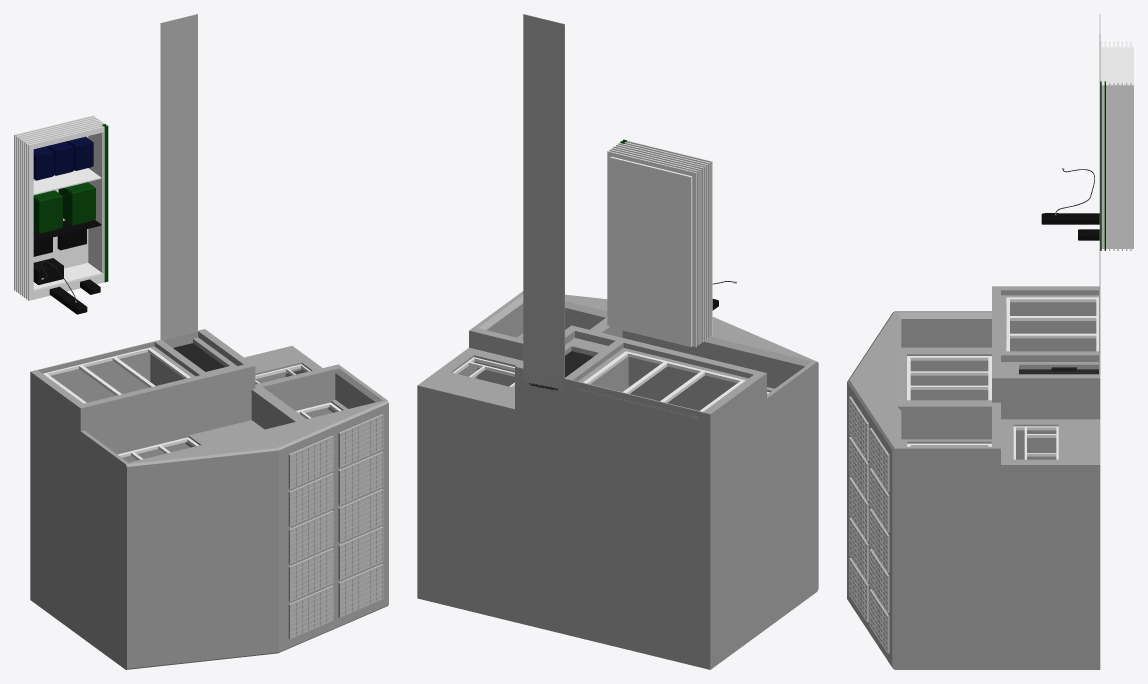
The model's file is sett-v9.obj.
3 views of the same model, side by side, from view 1: azimuth 30°, elevation 25°; view 2: azimuth 150°, elevation 25°; view 3: azimuth 270°, elevation 25° (orthographic). The views are drawn at different scales.
Visible parts, largest first — view 1: Muren_boven, Muren_beneden, Pathway, Vloer, BAK_met_RIBS, Panel_side, Extruded.011, Extruded.028, Extruded.012, Extruded.027, Extruded.014, Extruded.016 (+14 smaller); view 2: Vloer, Muren_beneden, Muren_boven, Pathway, BAK_met_RIBS, Raan_beneden_rechts, Extruded.019, Extruded.020, Extruded.026, Extruded.025, Extruded.023, Extruded.021 (+2 smaller); view 3: Muren_boven, Muren_beneden, Panel_side, Raan_beneden_rechts, BAK_met_RIBS, Raam_boven_rechts, Extruded.028, Extruded.017, Extruded.027, Extruded.016, Extruded.018, Extruded.012 (+8 smaller).
Part boxes in pixels (x1=…): Muren_boven: x1=80, y1=367, x2=388, y2=669; Muren_beneden: x1=30, y1=329, x2=342, y2=636; Pathway: x1=160, y1=14, x2=197, y2=339; Vloer: x1=30, y1=329, x2=285, y2=599; BAK_met_RIBS: x1=28, y1=127, x2=104, y2=300; Panel_side: x1=88, y1=131, x2=104, y2=282; Extruded.011: x1=288, y1=435, x2=333, y2=489; Extruded.028: x1=338, y1=414, x2=383, y2=467; Extruded.012: x1=288, y1=473, x2=333, y2=526; Extruded.027: x1=338, y1=451, x2=383, y2=505; Extruded.014: x1=288, y1=548, x2=333, y2=601; Extruded.016: x1=338, y1=564, x2=383, y2=617; Vloer: x1=417, y1=368, x2=710, y2=669; Muren_beneden: x1=417, y1=325, x2=766, y2=669; Muren_boven: x1=474, y1=291, x2=818, y2=628; Pathway: x1=523, y1=14, x2=564, y2=391; BAK_met_RIBS: x1=610, y1=156, x2=692, y2=346; Raan_beneden_rechts: x1=579, y1=351, x2=745, y2=418; Extruded.019: x1=611, y1=152, x2=696, y2=347; Extruded.020: x1=613, y1=150, x2=699, y2=345; Extruded.026: x1=626, y1=140, x2=712, y2=335; Extruded.025: x1=624, y1=142, x2=710, y2=337; Extruded.023: x1=620, y1=145, x2=705, y2=340; Extruded.021: x1=615, y1=148, x2=701, y2=343; Muren_boven: x1=847, y1=311, x2=991, y2=669; Muren_beneden: x1=992, y1=286, x2=1100, y2=669; Panel_side: x1=1101, y1=86, x2=1130, y2=248; Raan_beneden_rechts: x1=1006, y1=297, x2=1098, y2=351; BAK_met_RIBS: x1=1101, y1=47, x2=1133, y2=248; Raam_boven_rechts: x1=907, y1=356, x2=991, y2=400; Extruded.028: x1=869, y1=428, x2=889, y2=492; Extruded.017: x1=869, y1=548, x2=889, y2=613; Extruded.027: x1=869, y1=468, x2=889, y2=532; Extruded.016: x1=869, y1=589, x2=889, y2=653; Extruded.018: x1=869, y1=508, x2=889, y2=572; Extruded.012: x1=849, y1=437, x2=868, y2=501.
Size of the model in its own units: 737 by 1432 by 634.
